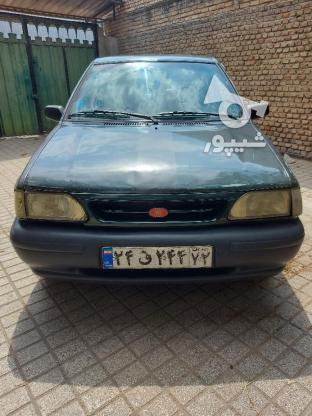car: (101, 246, 211, 268)
